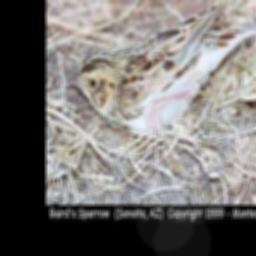Sparrow: (67, 1, 256, 138)
